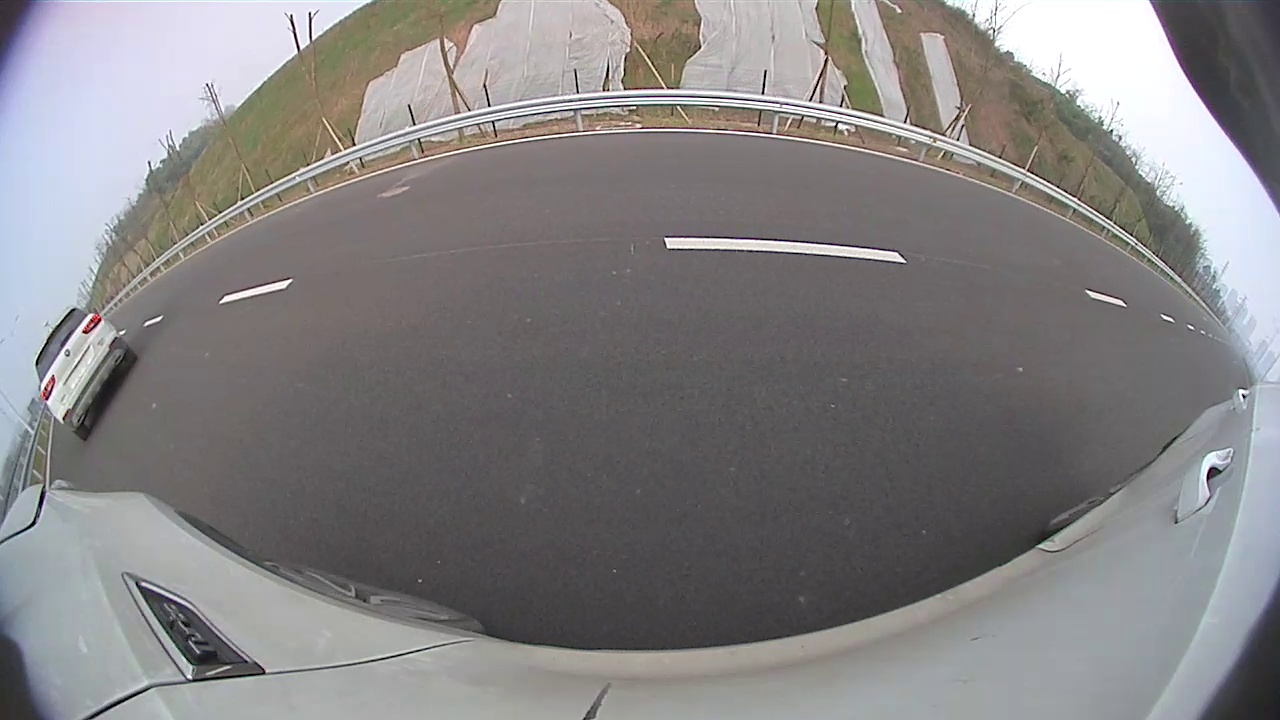car: (381, 128, 554, 248)
front: (540, 174, 551, 210)
rear: (489, 185, 514, 230)
